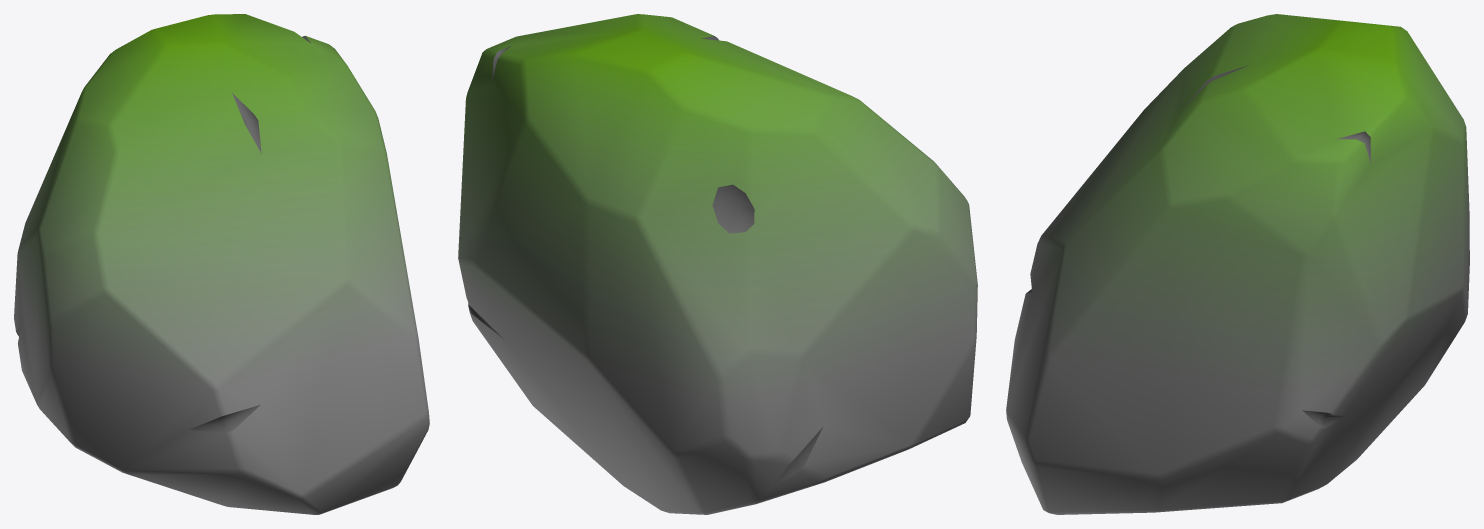
Rendered from Rock10_1.fbx.
3 views of the same model, side by side, from view 1: azimuth 30°, elevation 25°; view 2: azimuth 150°, elevation 25°; view 3: azimuth 270°, elevation 25° (orthographic). The views are drawn at different scales.
Parts seen in each view (by area): view 1: LOD0; view 2: LOD0; view 3: LOD0.
Boxes of the visible parts, bbox=[...] form: LOD0: bbox=[14, 14, 429, 514]; LOD0: bbox=[458, 14, 977, 514]; LOD0: bbox=[1006, 14, 1469, 514].
Size of what is drawn, in the model's own units: 536 by 497 by 514.
